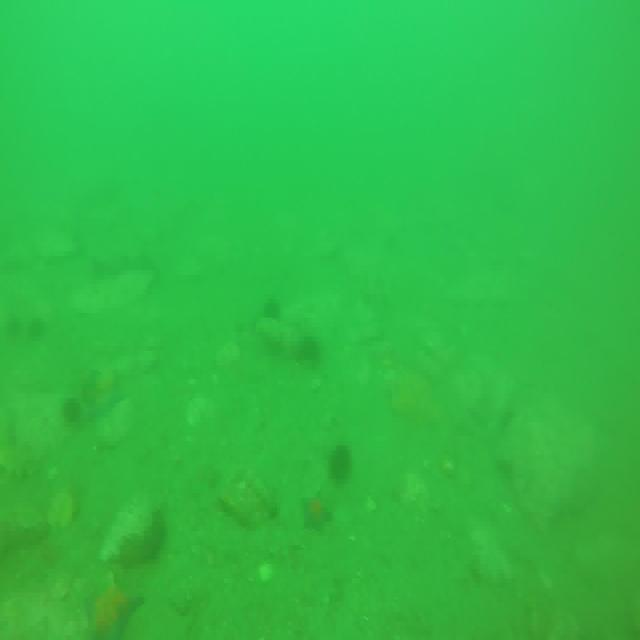echinus: (327, 442, 353, 489), (61, 395, 84, 424), (264, 294, 280, 321)
starfish: (85, 580, 141, 640), (83, 369, 123, 413), (301, 488, 334, 536)
